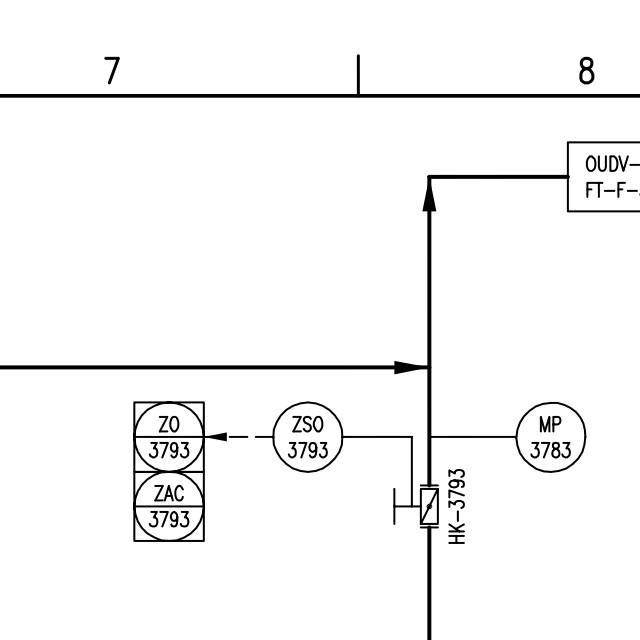BV: (382, 479, 441, 532)
